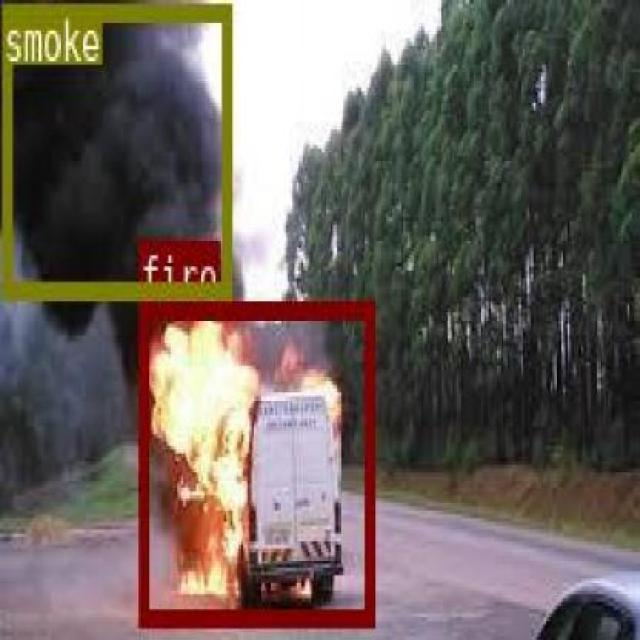CIV_Plane: (138, 300, 372, 622)
Fire: (138, 300, 372, 622)
Smoke: (2, 0, 230, 230)
